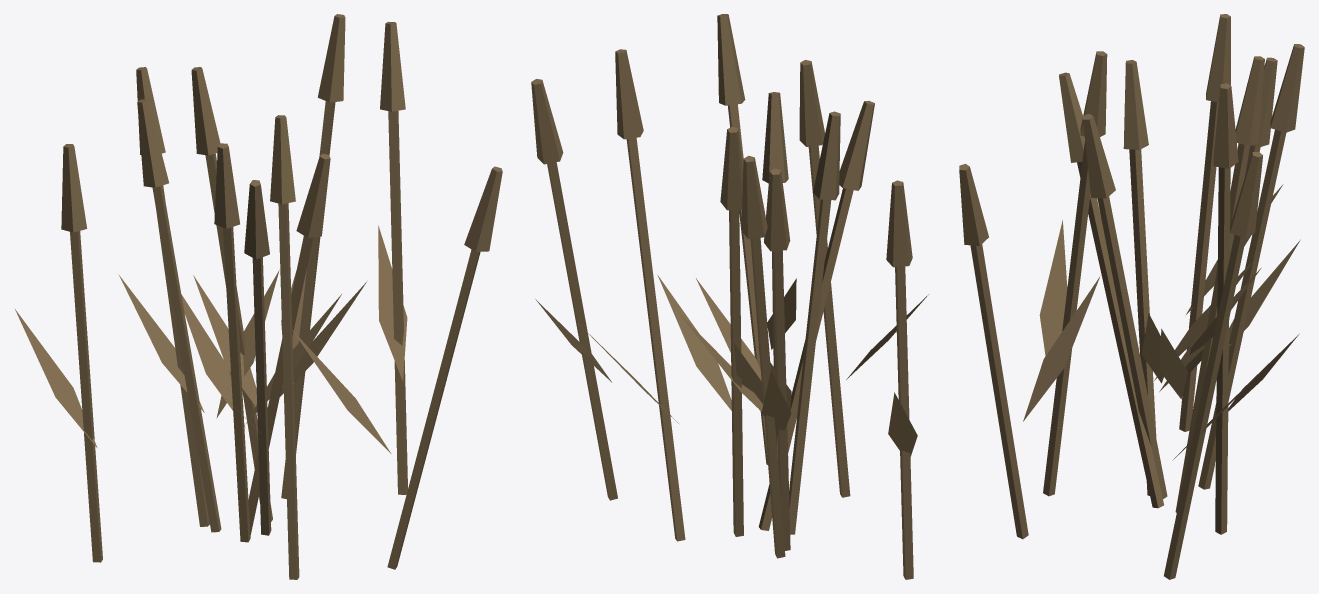
Rendered from wheat_dead.glb.
3 renders of one model, left to right at view 1: azimuth 30°, elevation 25°; view 2: azimuth 150°, elevation 25°; view 3: azimuth 270°, elevation 25°, orthographic. The views are drawn at different scales.
Parts seen in each view (by area): view 1: wheat; view 2: wheat; view 3: wheat.
Boxes of the visible parts, x1,y1,x2,y2 form: wheat: [14, 14, 502, 579]; wheat: [531, 14, 928, 579]; wheat: [959, 14, 1304, 579].
Bounding box in the file's own units: 0.4357 × 0.5276 × 0.3479.
